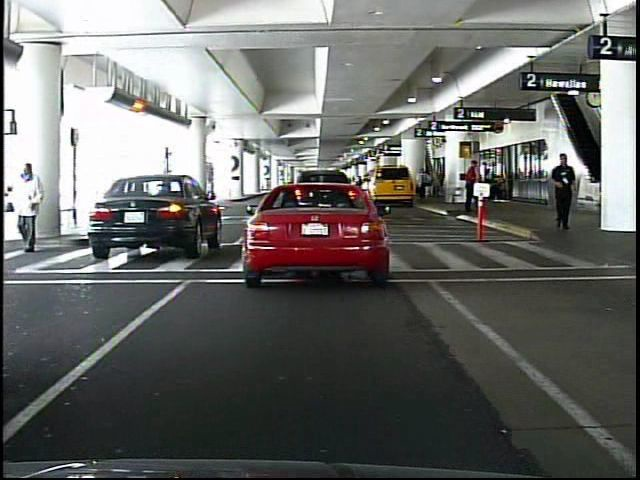person: (16, 159, 48, 255), (549, 152, 575, 233), (461, 162, 476, 216), (416, 166, 429, 202)
